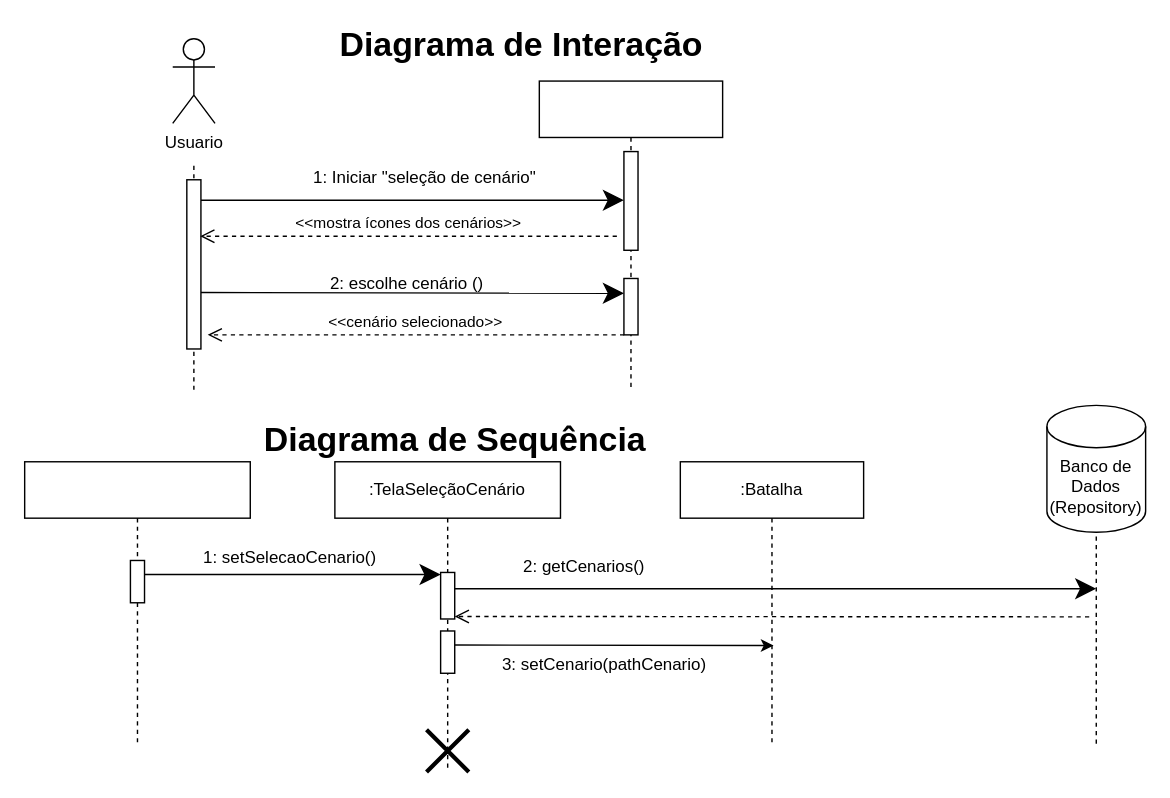
Some shapes in this 1170 by 798 pixel diagram are drawn without their labels. The shapes that lost their labels are listed below. From the top down, each one's centre as x and y in pixels, then its label:
At (x=630, y=235): ":Sistema".
At (x=136, y=602): ":TelaConfiguraçãoBatalha".
